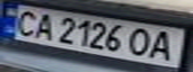1: (72, 17, 93, 47)
2: (54, 15, 78, 45), (87, 19, 109, 51)
6: (103, 22, 127, 54)
A: (145, 28, 184, 62), (30, 10, 57, 42)
C: (6, 7, 42, 37)
O: (124, 26, 157, 57)
